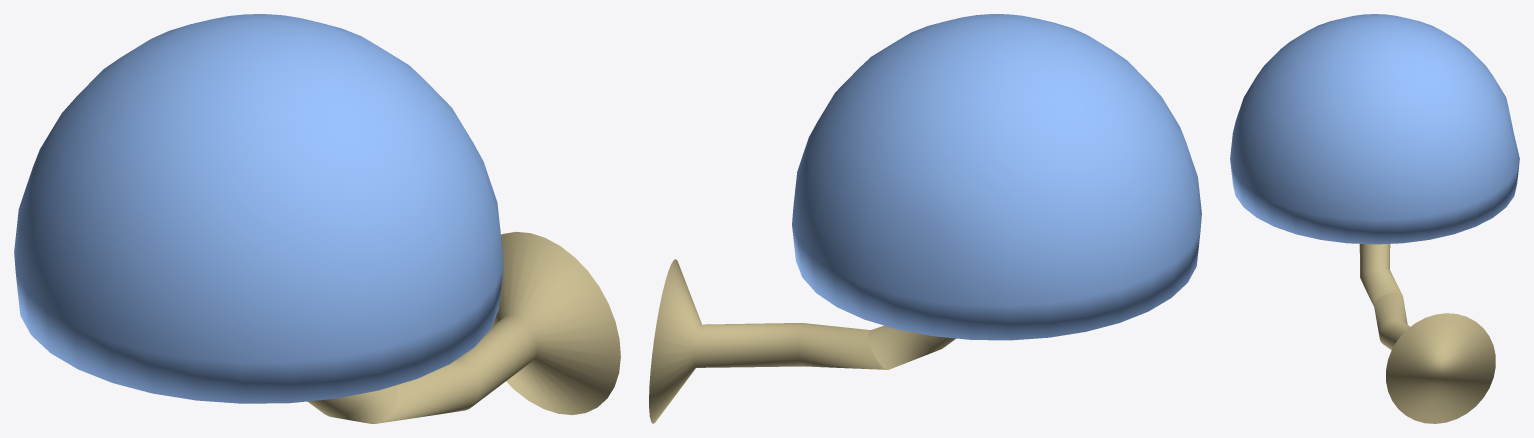
The model's file is champi_mur.fbx.
3 views of the same model, side by side, from view 1: azimuth 30°, elevation 25°; view 2: azimuth 150°, elevation 25°; view 3: azimuth 270°, elevation 25° (orthographic). The views are drawn at different scales.
Visible parts, largest first — view 1: Cone; view 2: Cone; view 3: Cone.
Boxes of the visible parts, box(x1,y1,x2,y2) form: Cone: box(14, 14, 620, 423); Cone: box(649, 14, 1201, 423); Cone: box(1230, 14, 1519, 423).
Size of the model in its own units: 54.96 by 45.03 by 40.
Materials: 1 (1 with a texture image).
